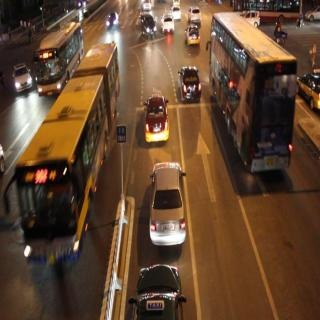BigCar: (15, 41, 116, 282), (206, 8, 296, 196), (38, 21, 82, 89)
Car: (146, 153, 186, 252), (134, 265, 184, 320), (141, 92, 169, 140), (297, 66, 320, 111), (178, 62, 201, 102), (10, 63, 30, 99), (138, 14, 157, 38), (186, 22, 200, 49), (104, 11, 121, 30), (160, 14, 174, 33), (186, 6, 200, 24)
